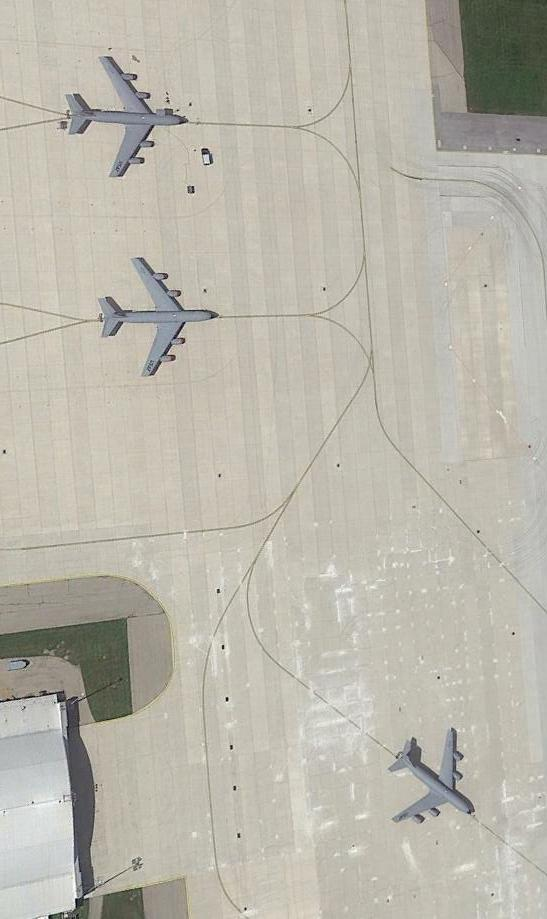KC-135: (61, 53, 187, 184), (100, 253, 227, 378), (386, 727, 482, 836)
